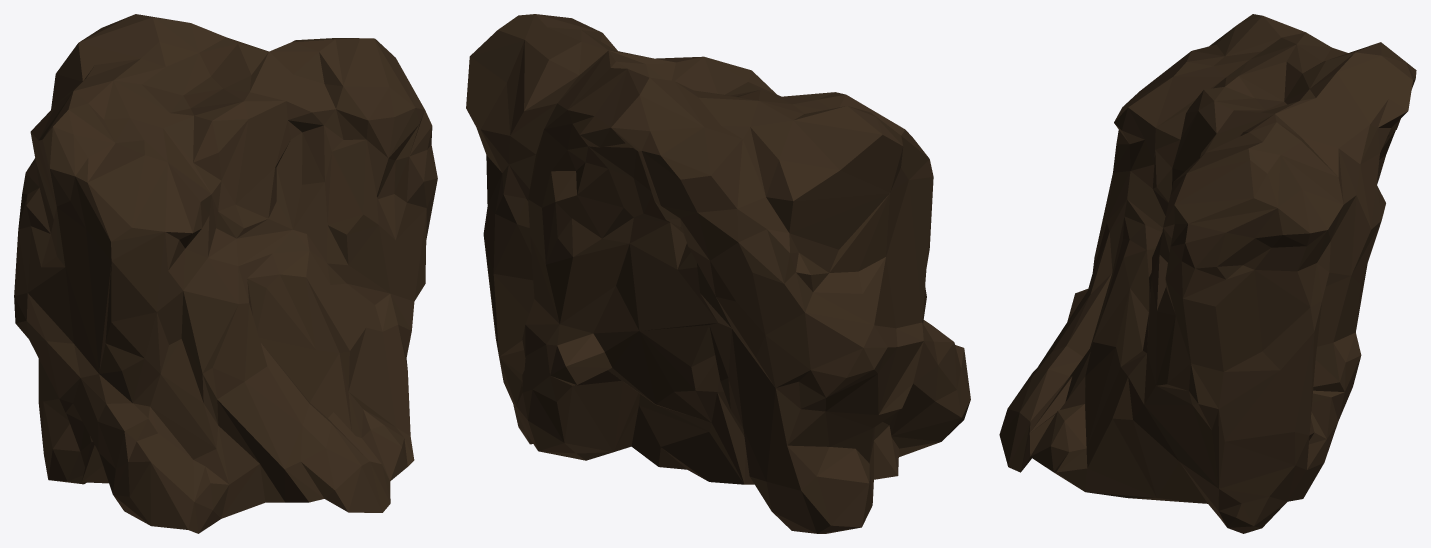
File: SM_cliff_04.FBX
3 renders of one model, left to right at view 1: azimuth 30°, elevation 25°; view 2: azimuth 150°, elevation 25°; view 3: azimuth 270°, elevation 25°, orthographic. The views are drawn at different scales.
Parts seen in each view (by area): view 1: Object021; view 2: Object021; view 3: Object021.
Part boxes in pixels (<box>): Object021: <box>14,14,437,533</box>; Object021: <box>466,14,970,533</box>; Object021: <box>999,14,1416,533</box>.
Size of the model in its own units: 1287 by 1352 by 1251.
